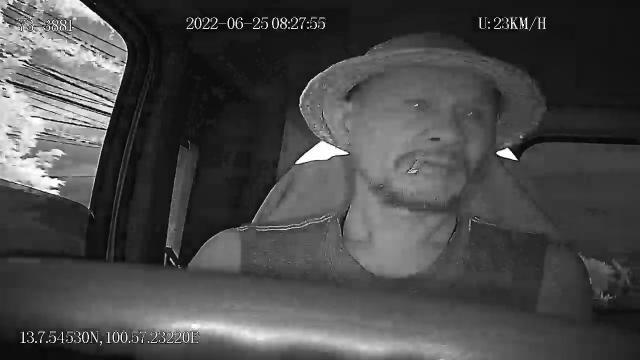SafeDriving: (399, 88, 435, 116)
Smoking: (408, 160, 424, 176)
